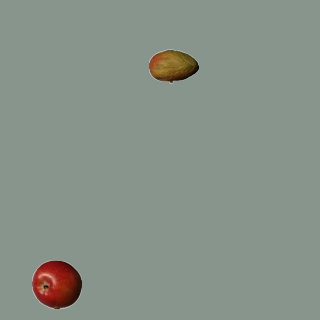Apple Braeburn: (31, 259, 81, 309)
Papaya: (148, 41, 198, 91)
